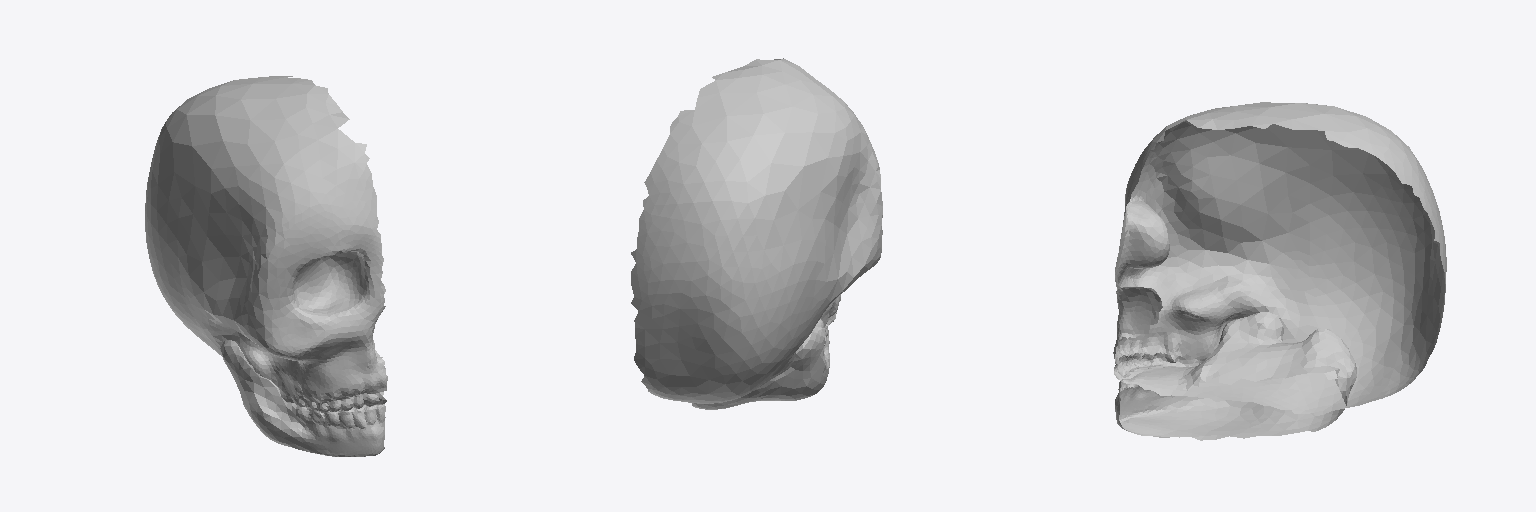
File: blackskull.obj
3 views of the same model, side by side, from view 1: azimuth 30°, elevation 25°; view 2: azimuth 150°, elevation 25°; view 3: azimuth 270°, elevation 25° (orthographic).
Visible parts, largest first — view 1: whiteskull.001; view 2: whiteskull.001; view 3: whiteskull.001.
Boxes of the visible parts, x1=… form: whiteskull.001: x1=145, y1=76, x2=387, y2=456; whiteskull.001: x1=631, y1=58, x2=882, y2=409; whiteskull.001: x1=1113, y1=102, x2=1446, y2=440.
Size of the model in its own units: 1.46 by 3.49 by 3.29.